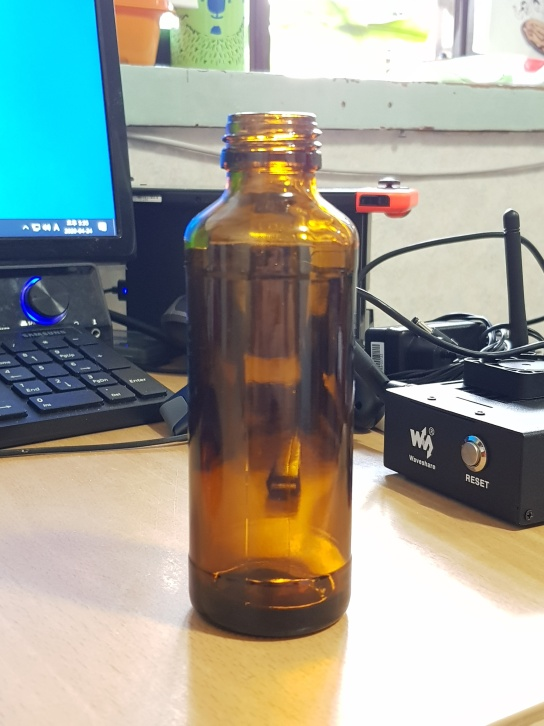Glass: (181, 108, 355, 645)
